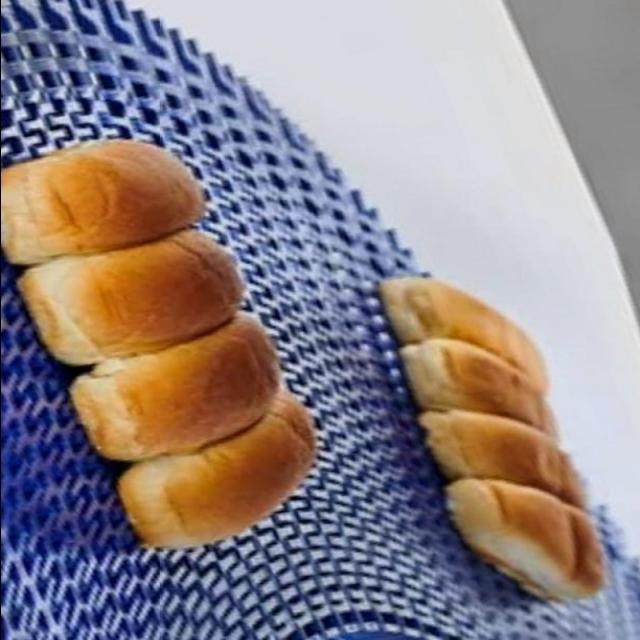food: (1, 136, 319, 551), (376, 274, 614, 604)
